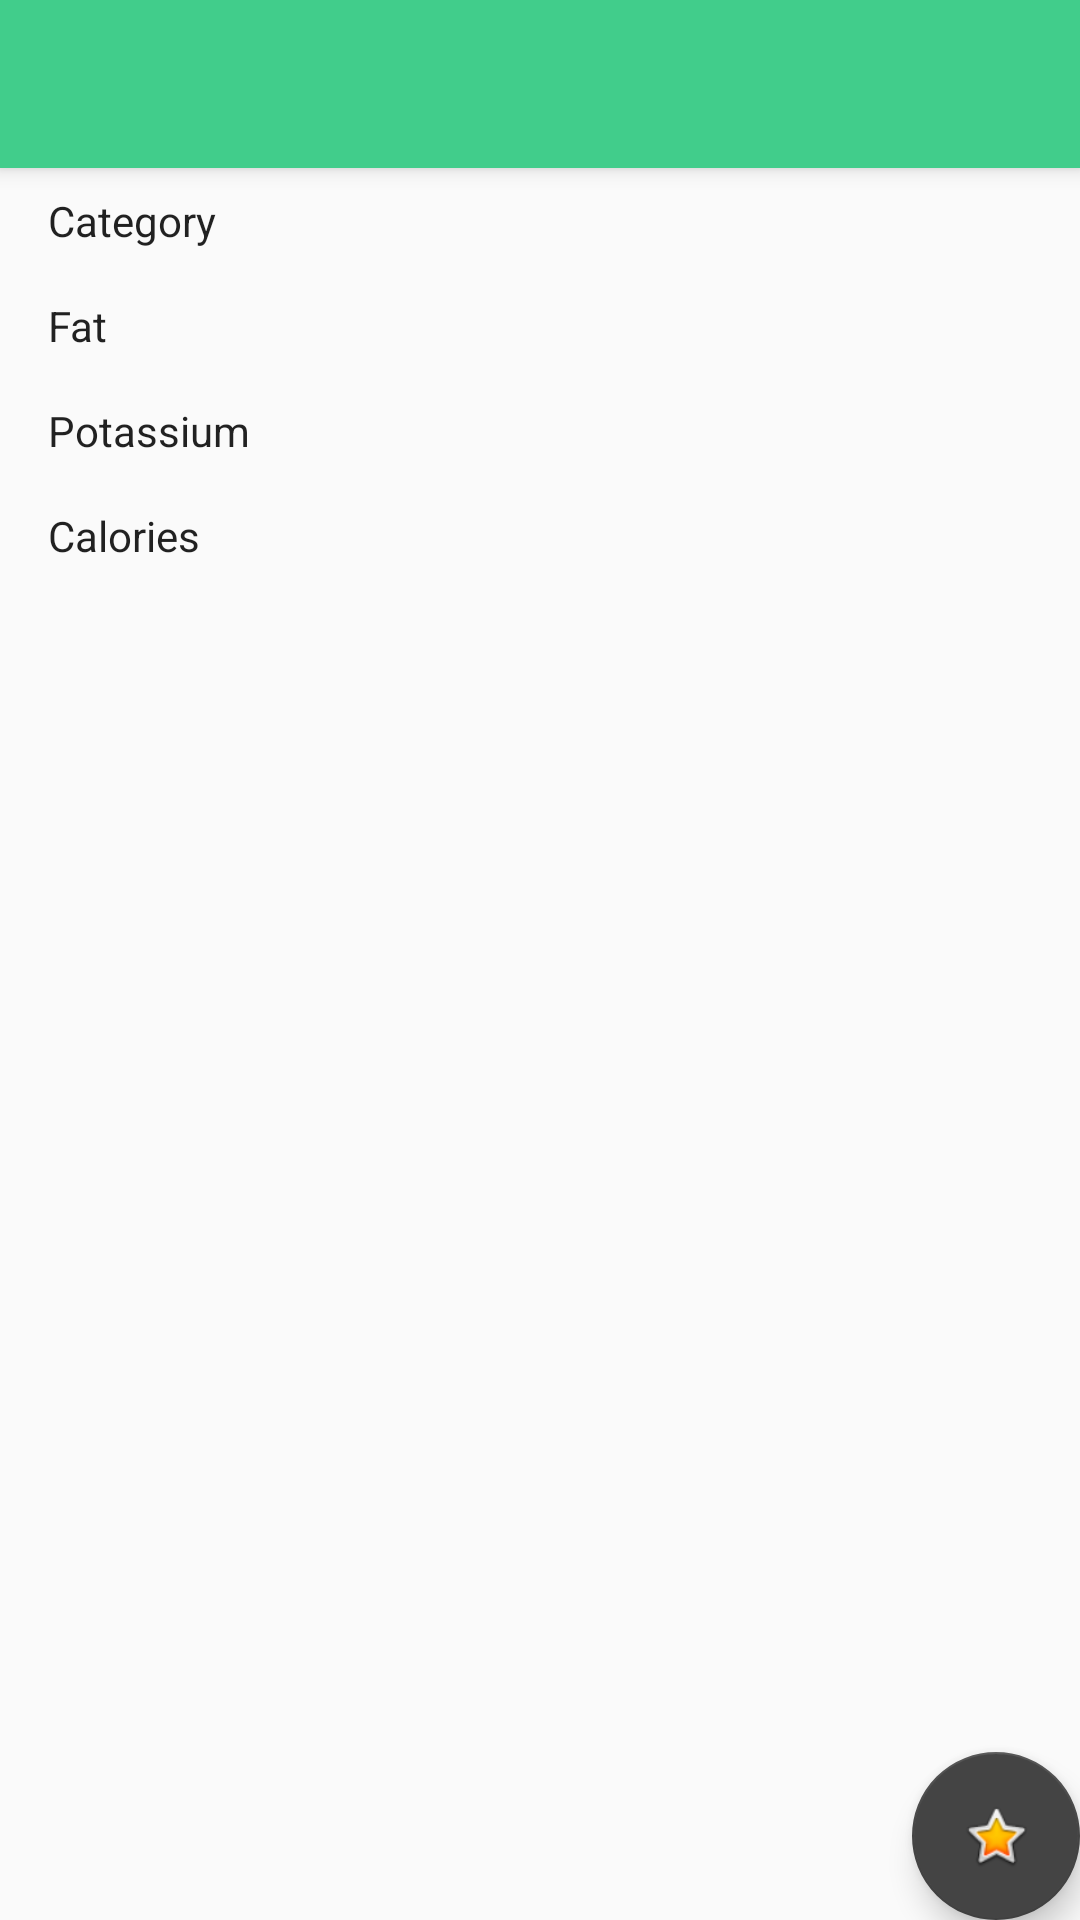

Named icons in this screenshot (1080 x 1920) and their centers, point (x, y):
star on: point (996, 1836)
